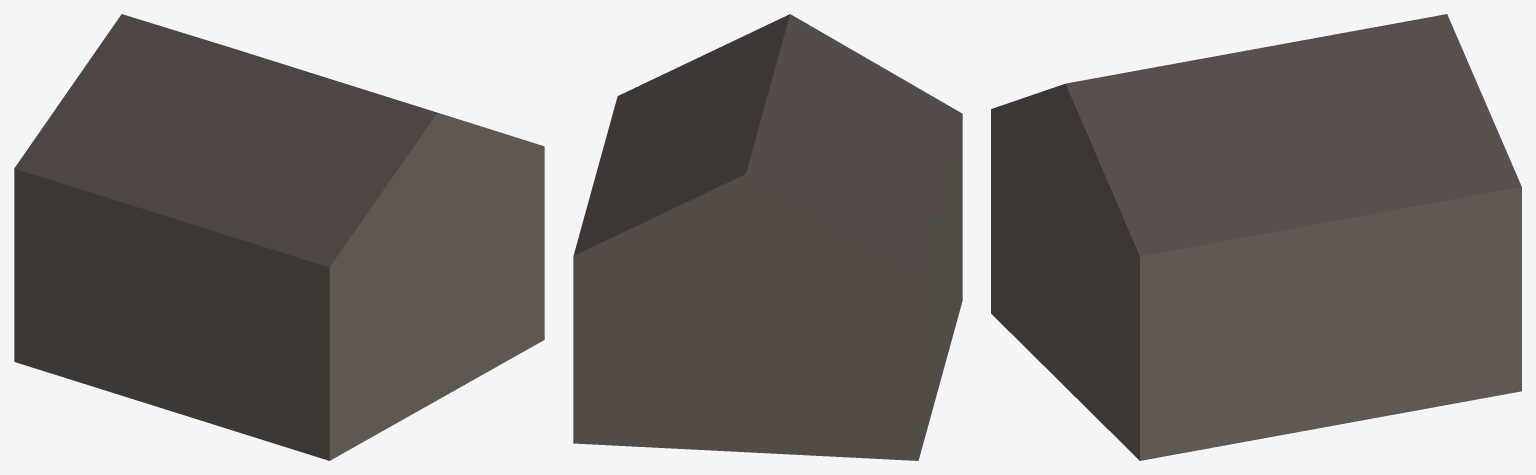
The picture shows the model from 3 angles, left to right: view 1: azimuth 30°, elevation 25°; view 2: azimuth 150°, elevation 25°; view 3: azimuth 270°, elevation 25°; orthographic projection. The views are drawn at different scales.
Visible parts, largest first — view 1: HP-w369317455; view 2: HP-w369317455; view 3: HP-w369317455.
Part boxes in pixels (x1,y1,x2,y2): HP-w369317455: (14,14,544,460); HP-w369317455: (573,14,962,460); HP-w369317455: (991,14,1521,460).
Bounding box in the file's own units: 13.65 × 8.91 × 14.11.
